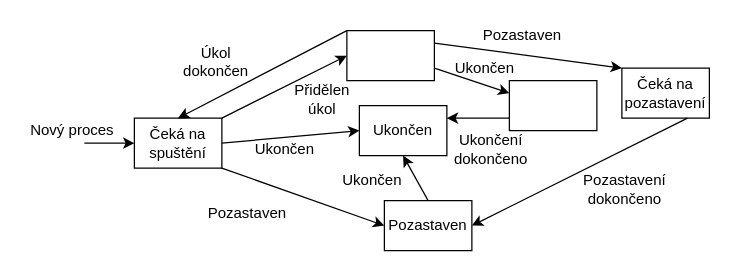
Image size: 731x273. Some labels were removed from this diagram. Here are the shapes that lost their labels. From the top down, the centre of each, then its label:
At pixel 390 55: "Běží".
At pixel 552 105: "Čeká na ukončení".
